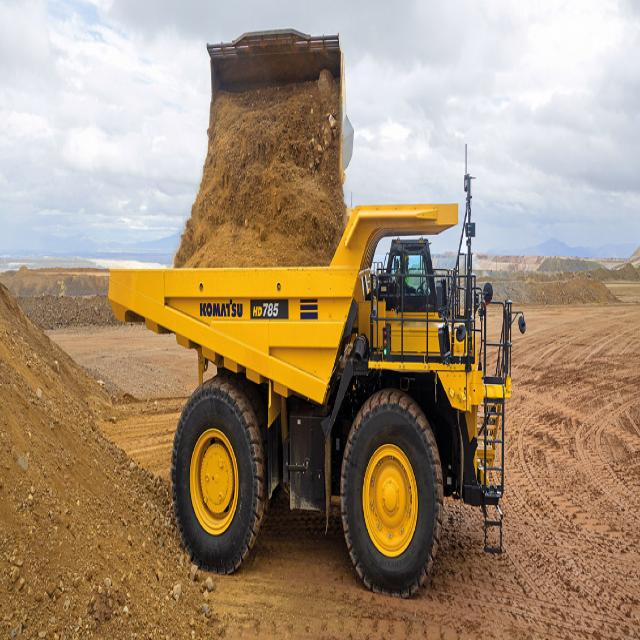dump_truck: (107, 200, 513, 599)
